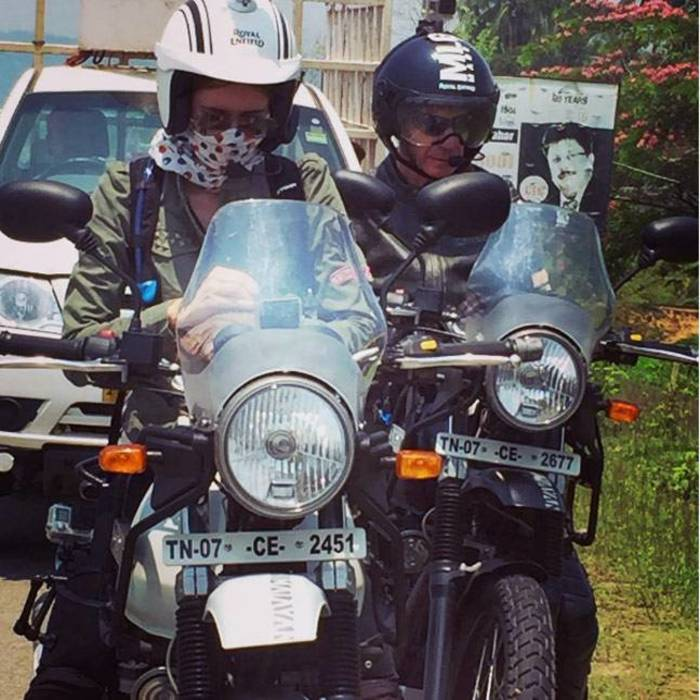h: (149, 1, 307, 136), (369, 30, 502, 152)
n: (159, 527, 369, 577), (432, 429, 584, 484)
